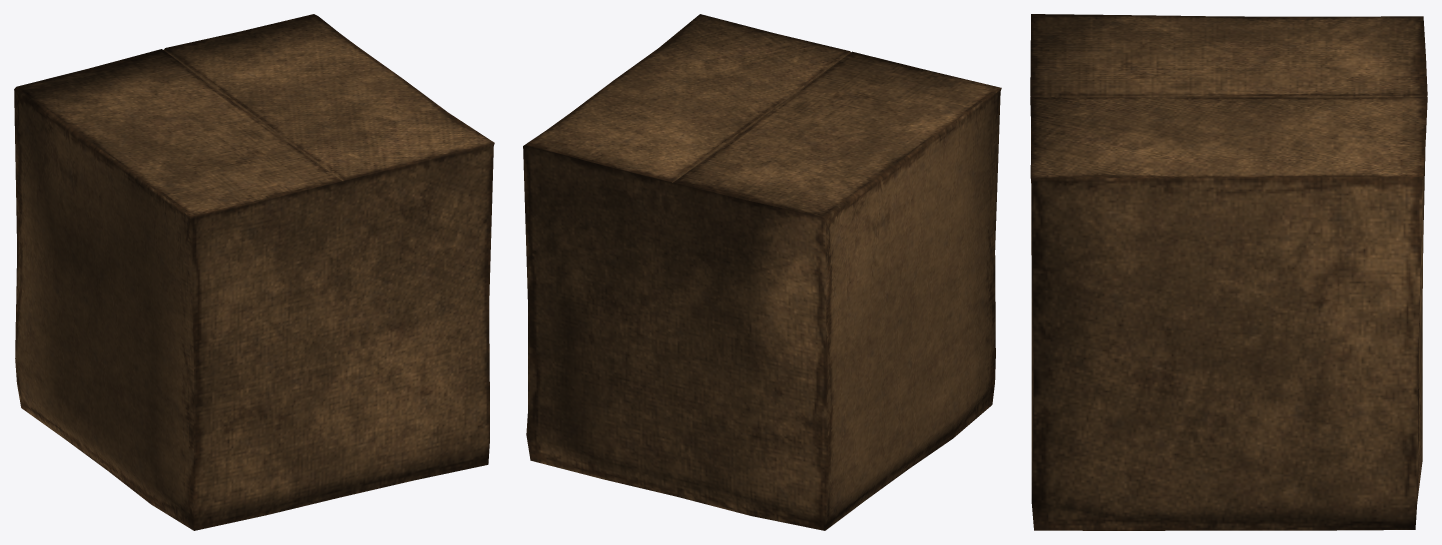
File: Box_Large.fbx
3 views of the same model, side by side, from view 1: azimuth 30°, elevation 25°; view 2: azimuth 150°, elevation 25°; view 3: azimuth 270°, elevation 25° (orthographic). The views are drawn at different scales.
Visible parts, largest first — view 1: R_Box.002; view 2: R_Box.002; view 3: R_Box.002.
Part boxes in pixels (x1,y1,x2,y2): R_Box.002: (14, 14, 494, 530); R_Box.002: (523, 14, 1001, 530); R_Box.002: (1030, 14, 1427, 530).
Bounding box in the file's own units: 88.96 × 89.47 × 90.44.
1 material, 1 textured.
